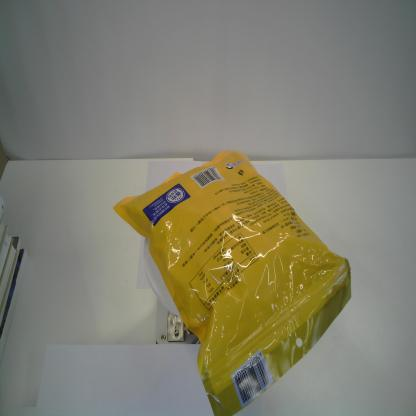Dried Food: (112, 144, 354, 416)
